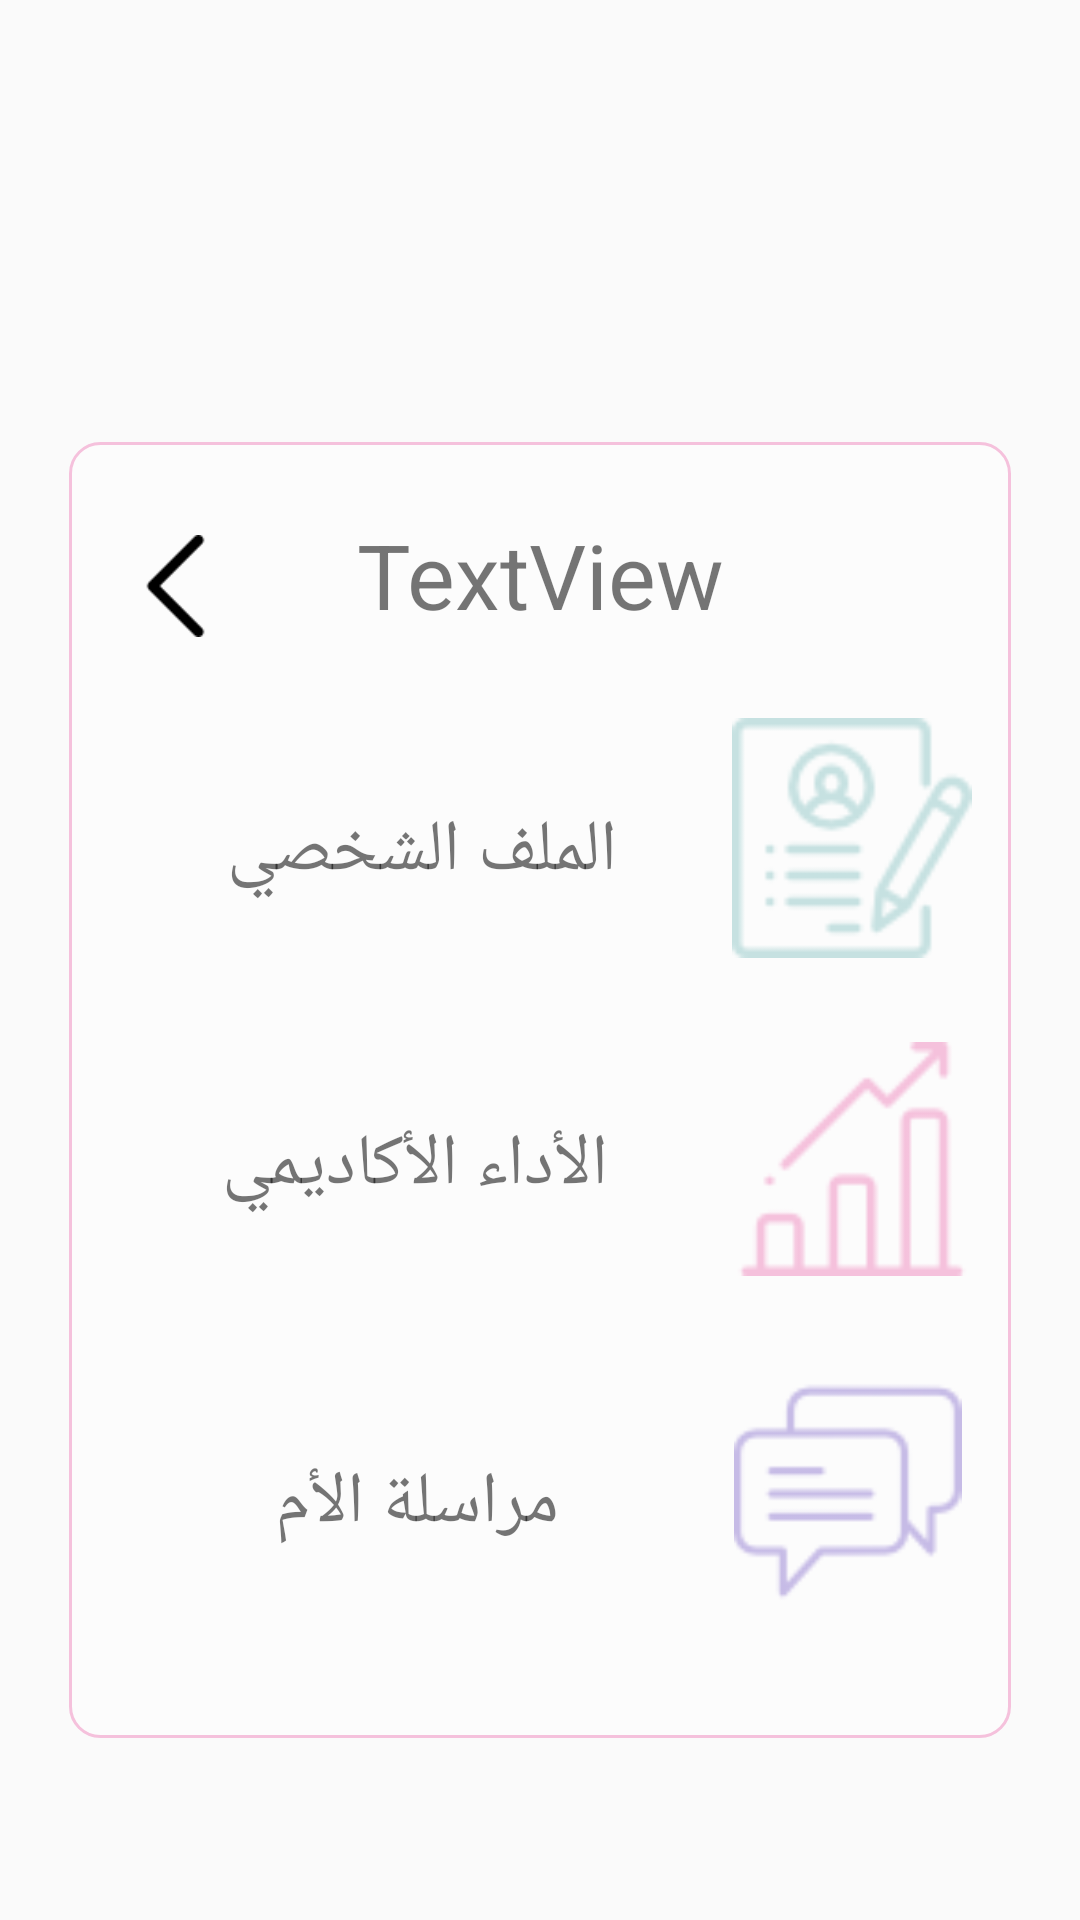

Icon bounding boxes for this 1080*1920 phone screenshot, format rect(x1, y1, x2, y2):
back: rect(146, 535, 205, 637)
chat: rect(734, 1387, 962, 1596)
performance: rect(742, 1042, 962, 1276)
profile: rect(732, 718, 972, 958)
